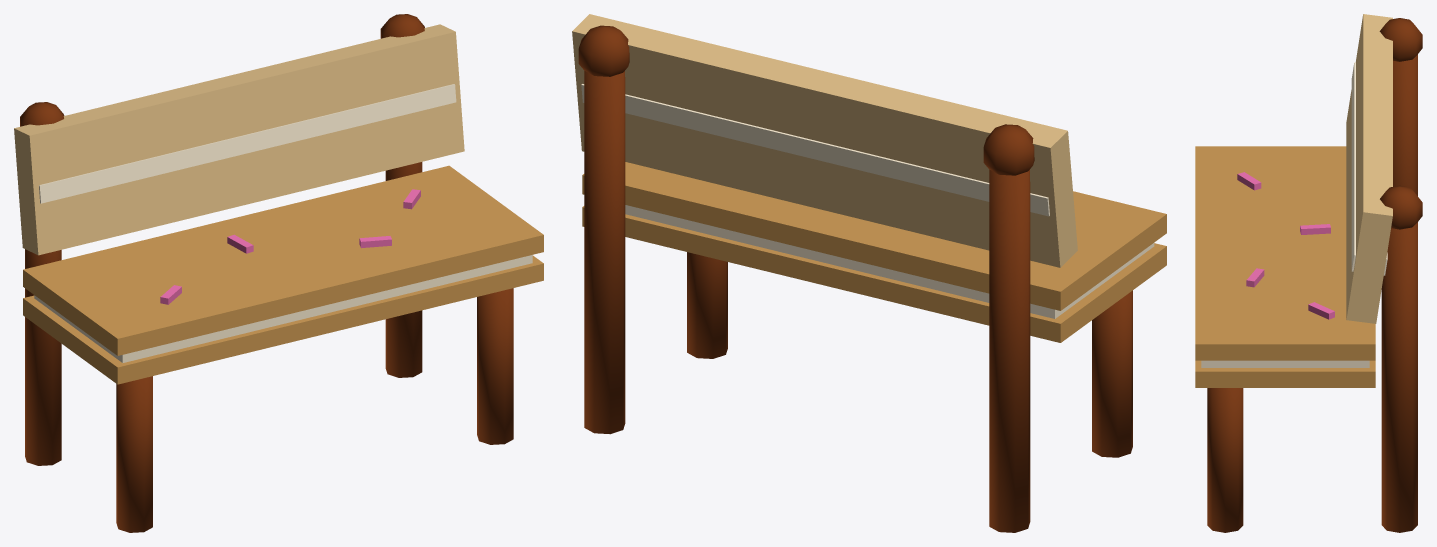
File: build-bench.glb
The picture shows the model from 3 angles, left to right: view 1: azimuth 30°, elevation 25°; view 2: azimuth 150°, elevation 25°; view 3: azimuth 270°, elevation 25°; orthographic projection. The views are drawn at different scales.
Visible parts, largest first — view 1: build-bench; view 2: build-bench; view 3: build-bench.
Part boxes in pixels (bbox=[...]): build-bench: bbox=[14, 14, 543, 532]; build-bench: bbox=[572, 14, 1166, 532]; build-bench: bbox=[1195, 14, 1422, 532].
Bounding box in the file's own units: 0.78 × 0.62 × 0.378.
1 material, 1 textured.
